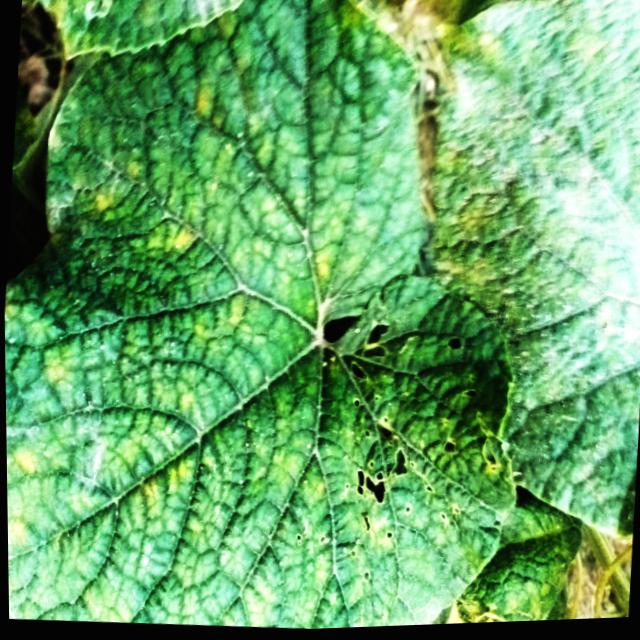Downy-Mildew: (4, 0, 513, 630)
